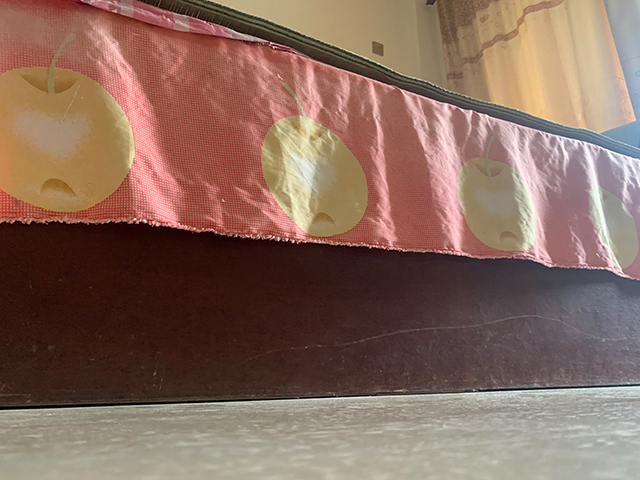bed: (1, 1, 640, 408)
curtain: (441, 1, 638, 137)
